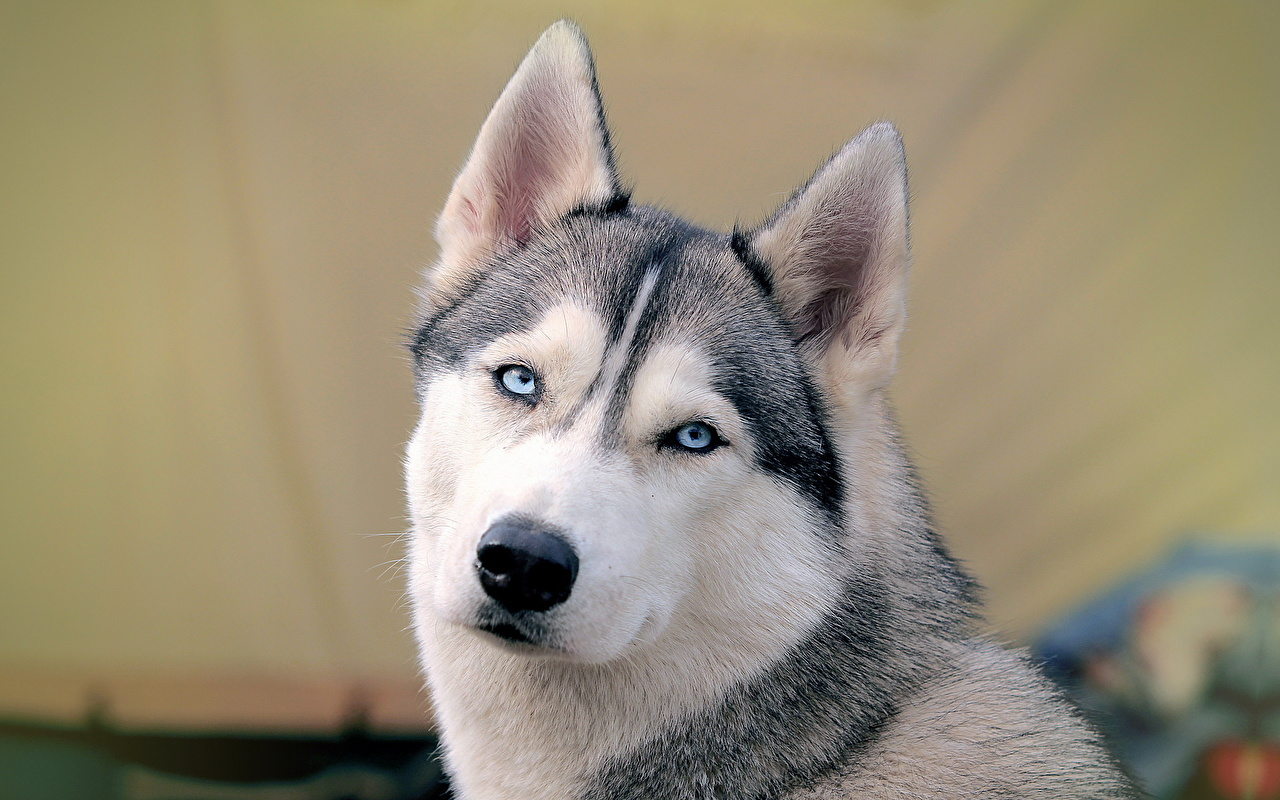husky: (375, 21, 988, 762)
